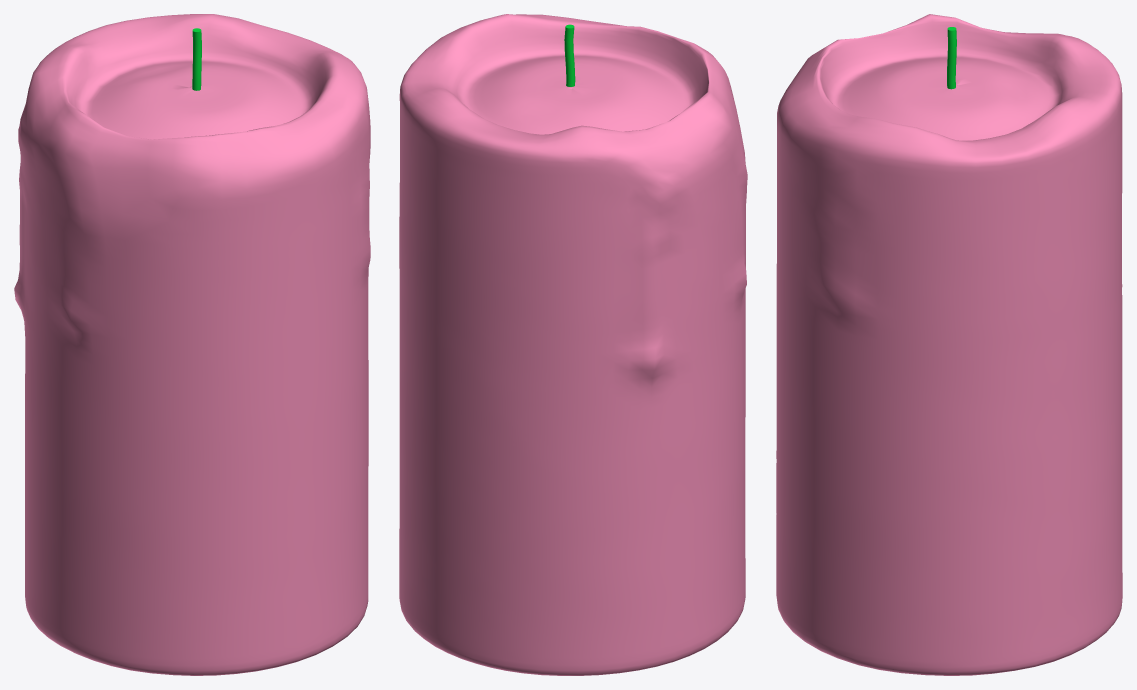
Rendered from Candle Style4.fbx.
3 renders of one model, left to right at view 1: azimuth 30°, elevation 25°; view 2: azimuth 150°, elevation 25°; view 3: azimuth 270°, elevation 25°, orthographic.
Visible parts, largest first — view 1: longue_use; view 2: longue_use; view 3: longue_use.
Boxes of the visible parts, left/top/right/bottom form: longue_use: left=14, top=14, right=370, bottom=675; longue_use: left=399, top=14, right=747, bottom=675; longue_use: left=776, top=14, right=1122, bottom=675.
Bounding box in the file's own units: 11.76 × 21.69 × 11.75.
